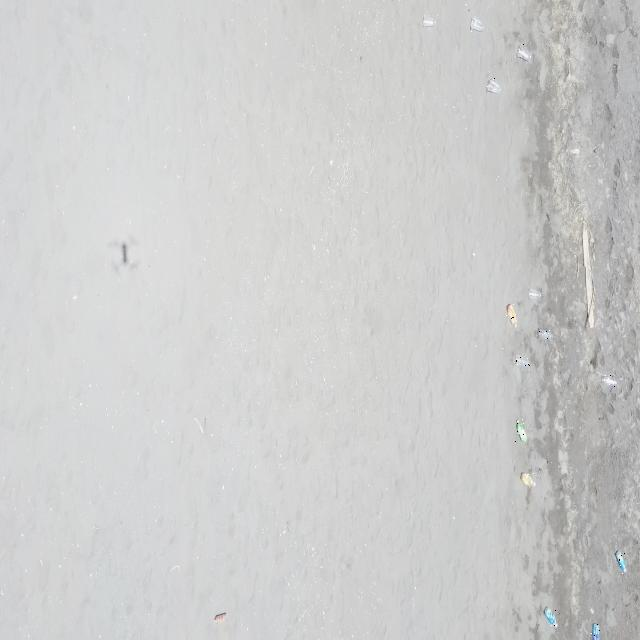plastic-bottle: (544, 605, 559, 629), (615, 549, 628, 574), (515, 417, 528, 442), (506, 304, 518, 327), (520, 471, 537, 487), (591, 622, 600, 640)
takeaway-cup: (516, 44, 532, 62), (470, 16, 485, 34), (421, 13, 437, 29), (487, 77, 501, 95), (602, 375, 616, 388), (516, 354, 530, 367), (538, 328, 551, 341), (528, 288, 542, 300)
